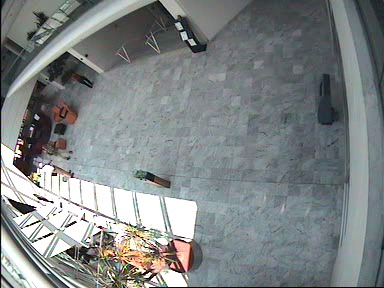person: (38, 158, 74, 178), (42, 145, 73, 161), (70, 71, 93, 88)
